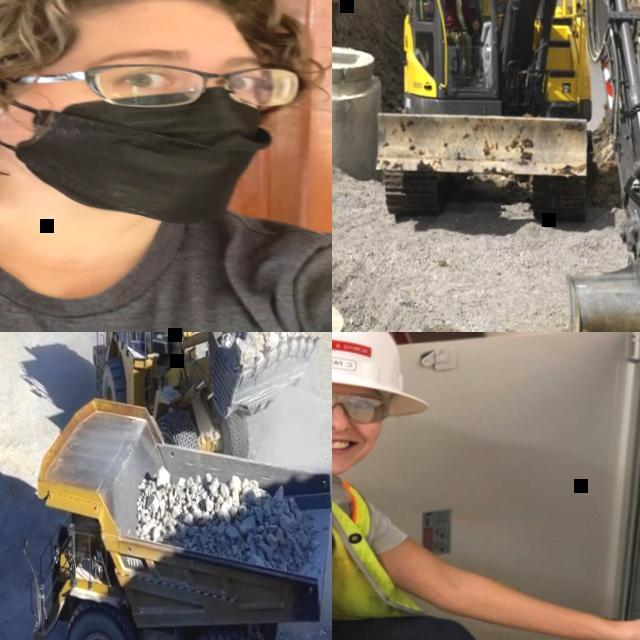helmet: (332, 332, 430, 414)
vest: (332, 459, 459, 640), (453, 0, 466, 30)
